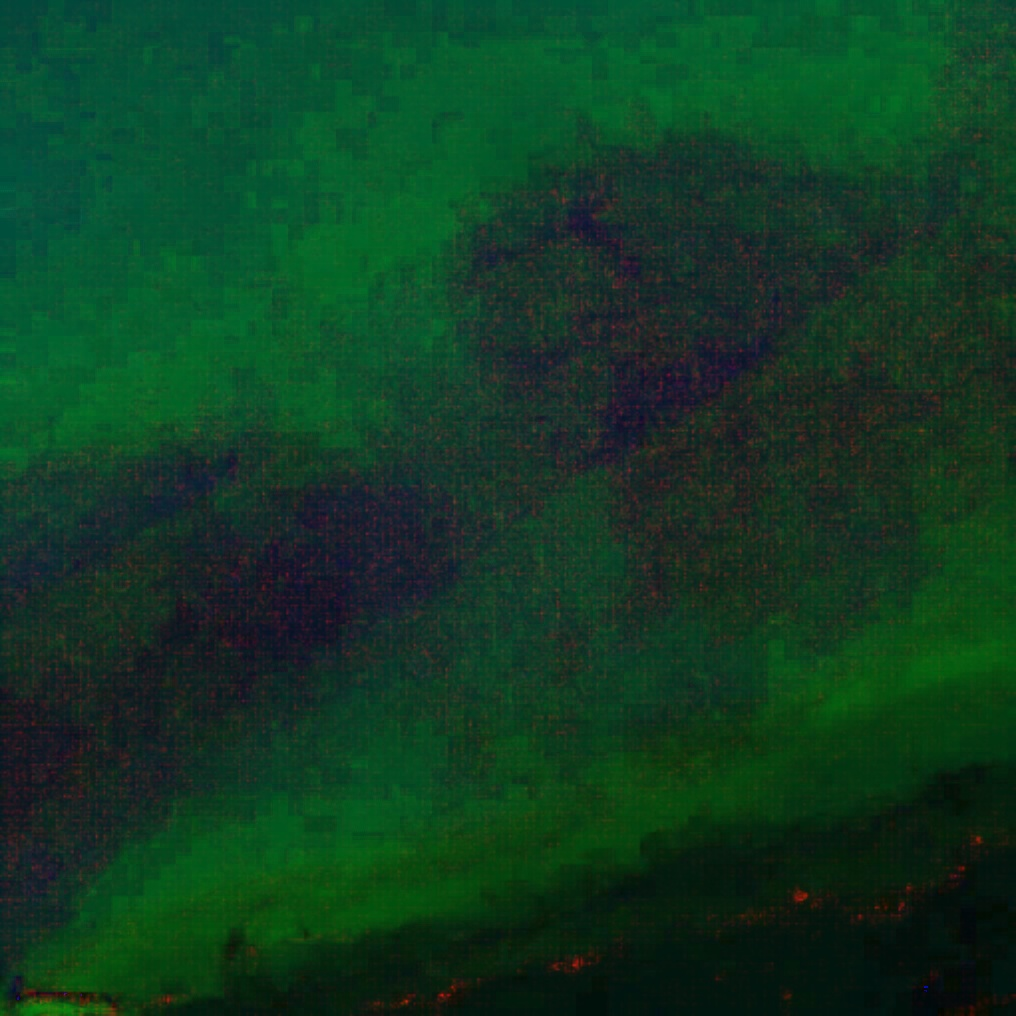rip_current: (238, 275, 712, 734)
